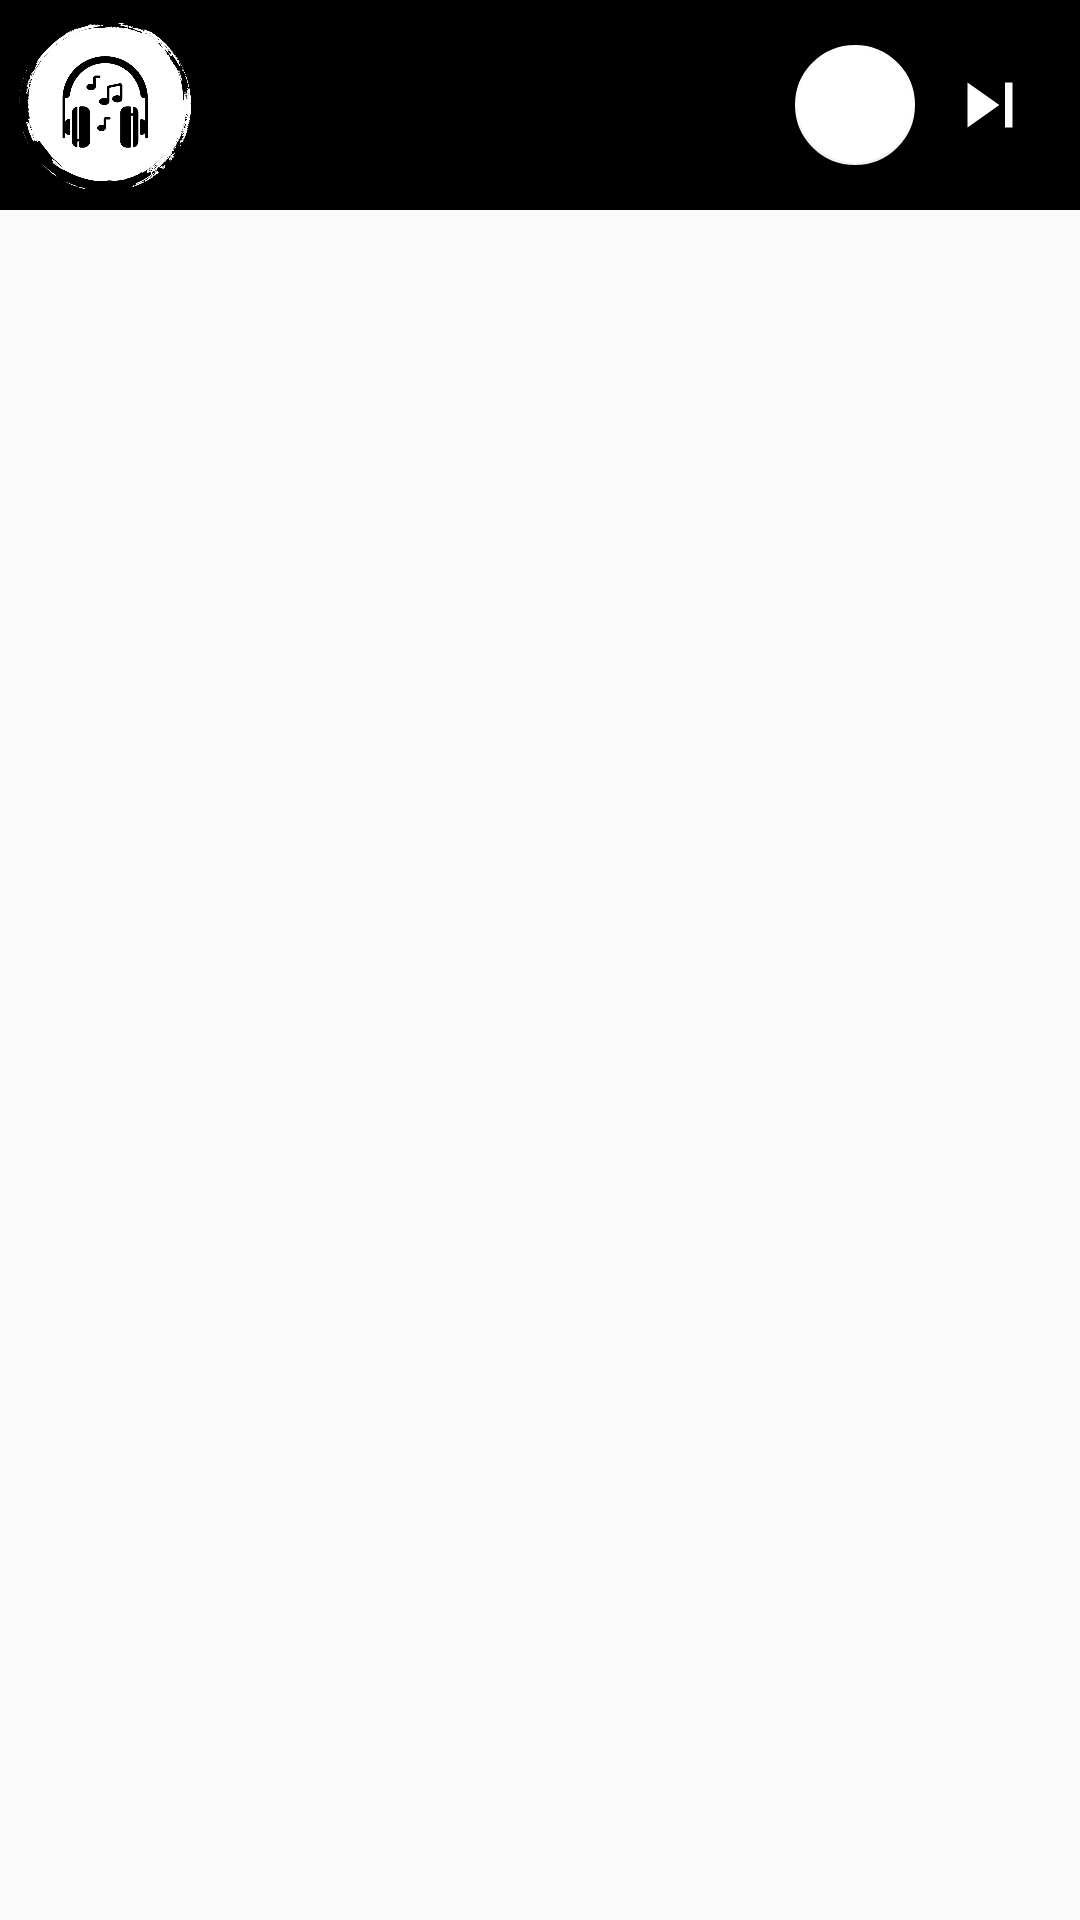

Locate icon controls on the screen. Image size 1080×1920, boxes as (x1, y1, x2, y2).
skip next: (967, 82, 1013, 128)
